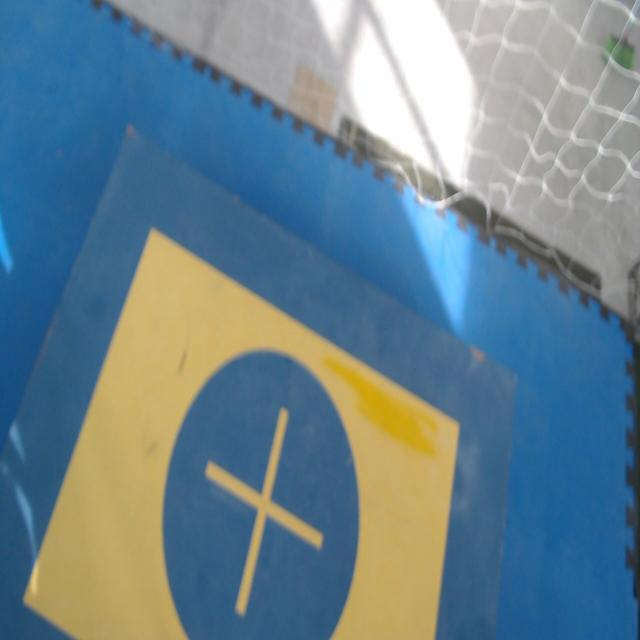base_inicio: (22, 226, 460, 639)
